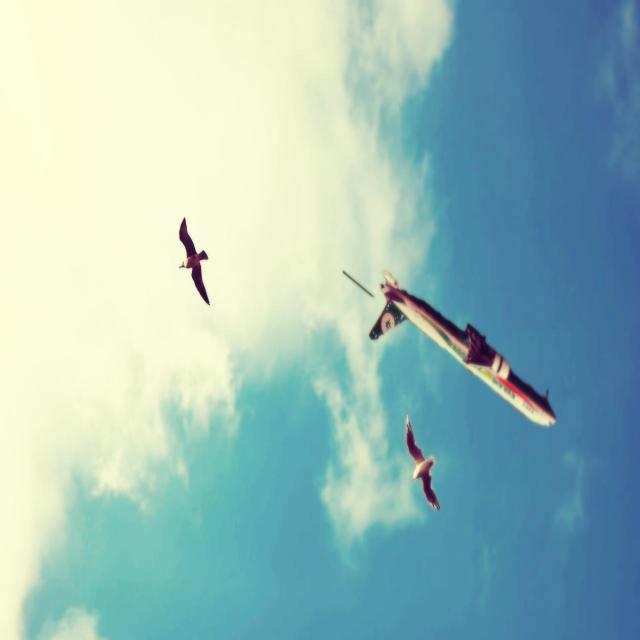airplane: (368, 268, 556, 428)
